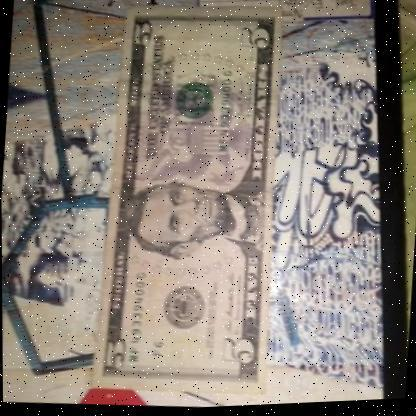five-front: (90, 0, 292, 402)
